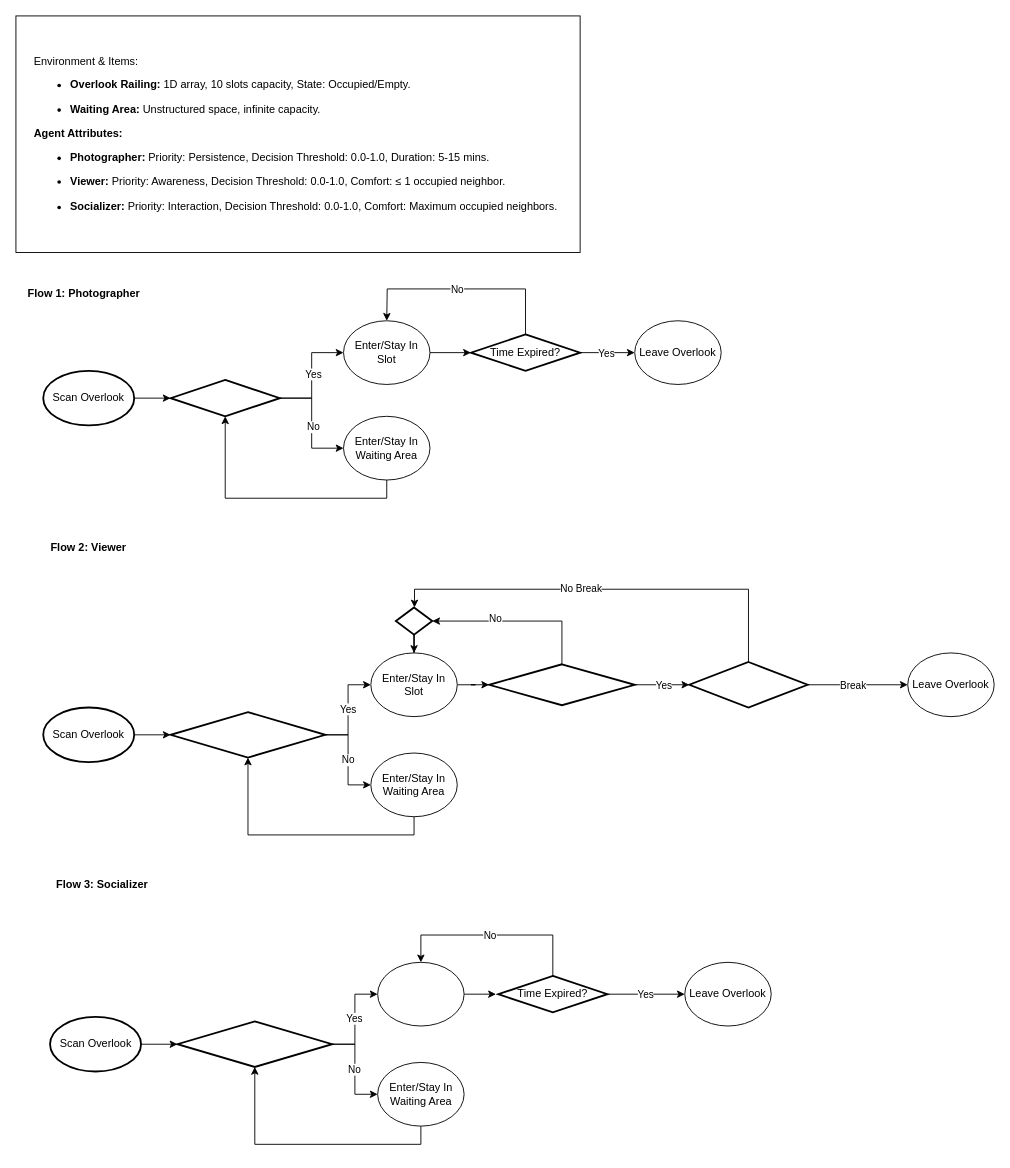
This 1010x1168 diagram has some shape labels left out. Each missing label, with the centre of its shape:
Empty Slot?: (224,398)
Empty Slots?: (254,1043)
Move to slot with max neighbors: (420,993)
Neighbors Occupied?: (561,684)
Roll patience: (748,684)
Slot with <=1 neighbors?: (247,734)
